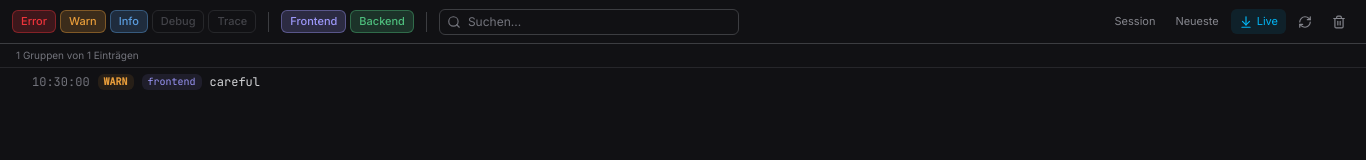
Test case: LogViewer — toolbar interactions › toggles a severity filter back on after a second click
Click the button "Warn".
click(83, 22)  # box 60,10 -> 106,33
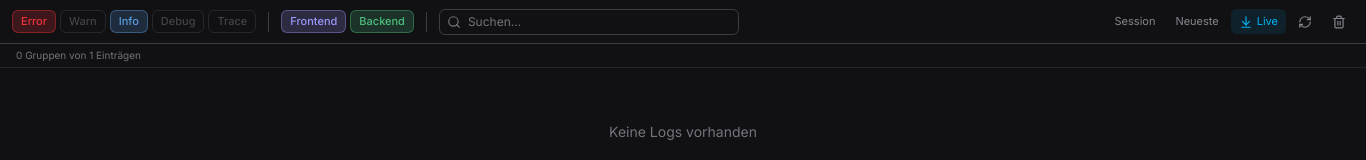
Now the text "careful" is gone
Click the button "Warn".
click(83, 22)  # box 60,10 -> 106,33
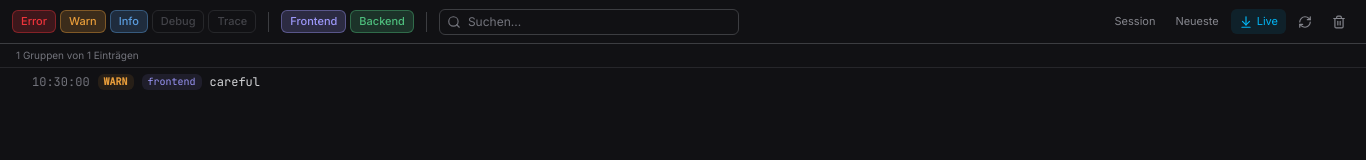
Now the text "careful" is shown, box 210,74 -> 260,90
